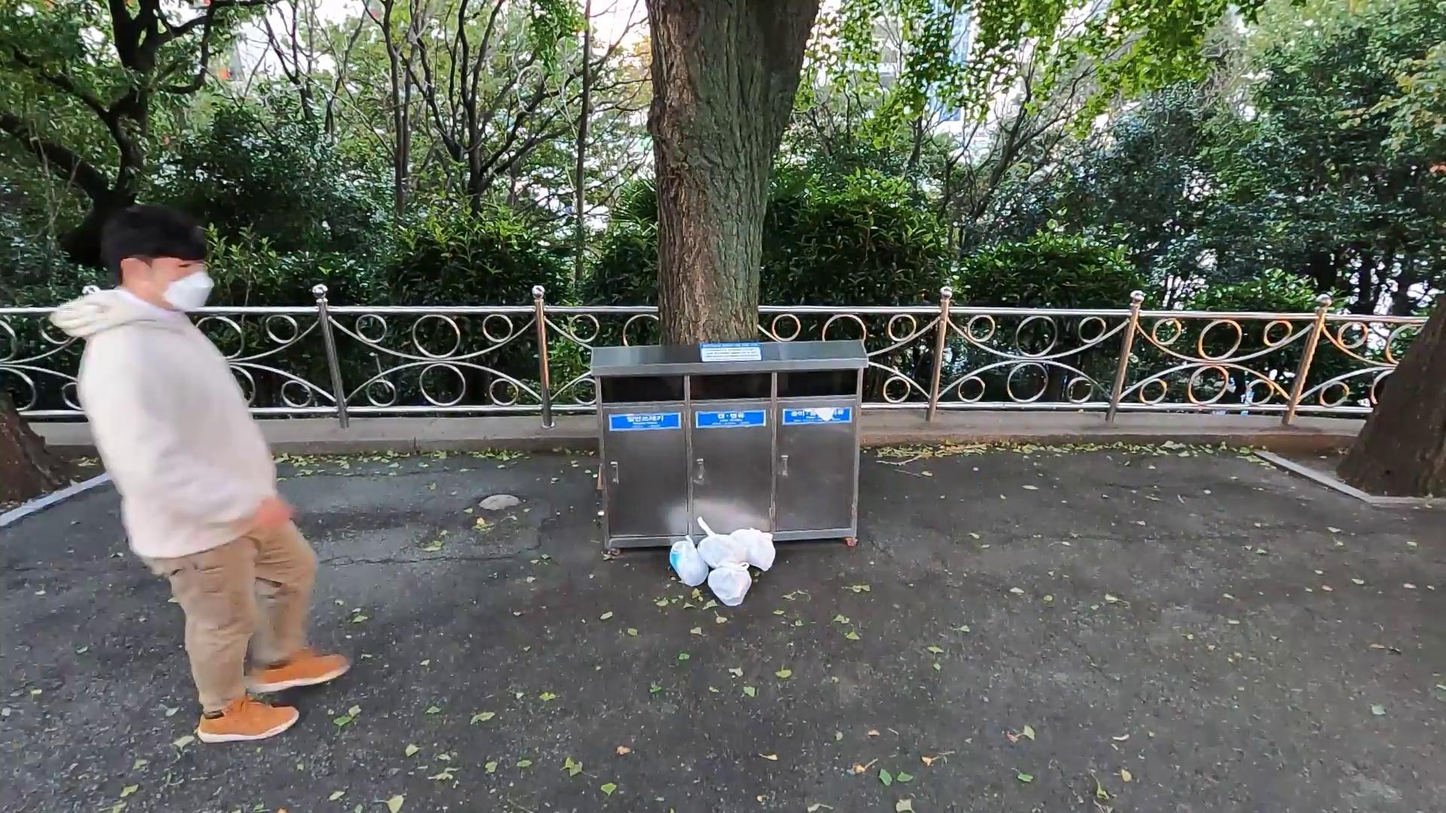person: (69, 208, 354, 744)
trash: (693, 519, 750, 579), (701, 558, 760, 606), (730, 523, 783, 572), (661, 538, 707, 587)
